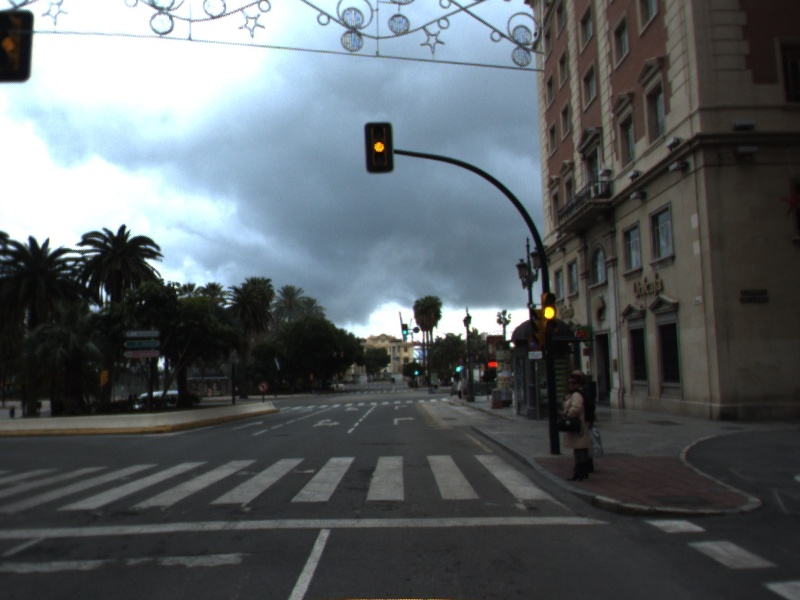RIGHT: (391, 414, 418, 427)
STRAIGHT: (231, 419, 265, 432)
STRAIGHT_RIGHT: (309, 417, 343, 430)
